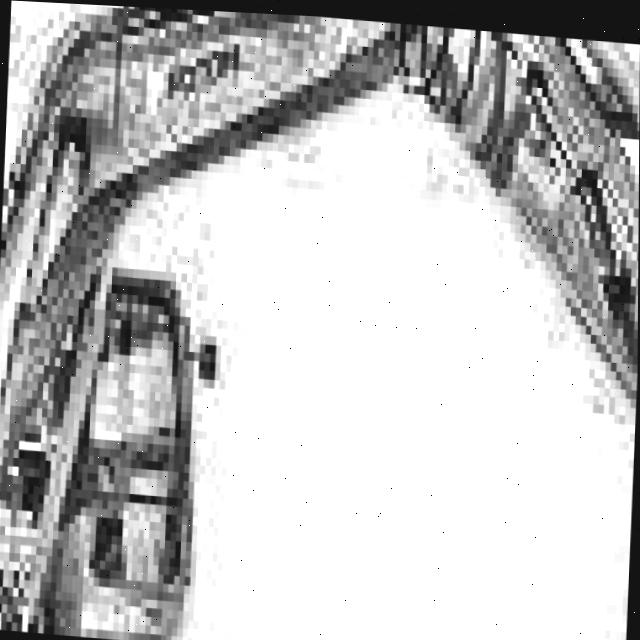excavator: (0, 222, 300, 640)
